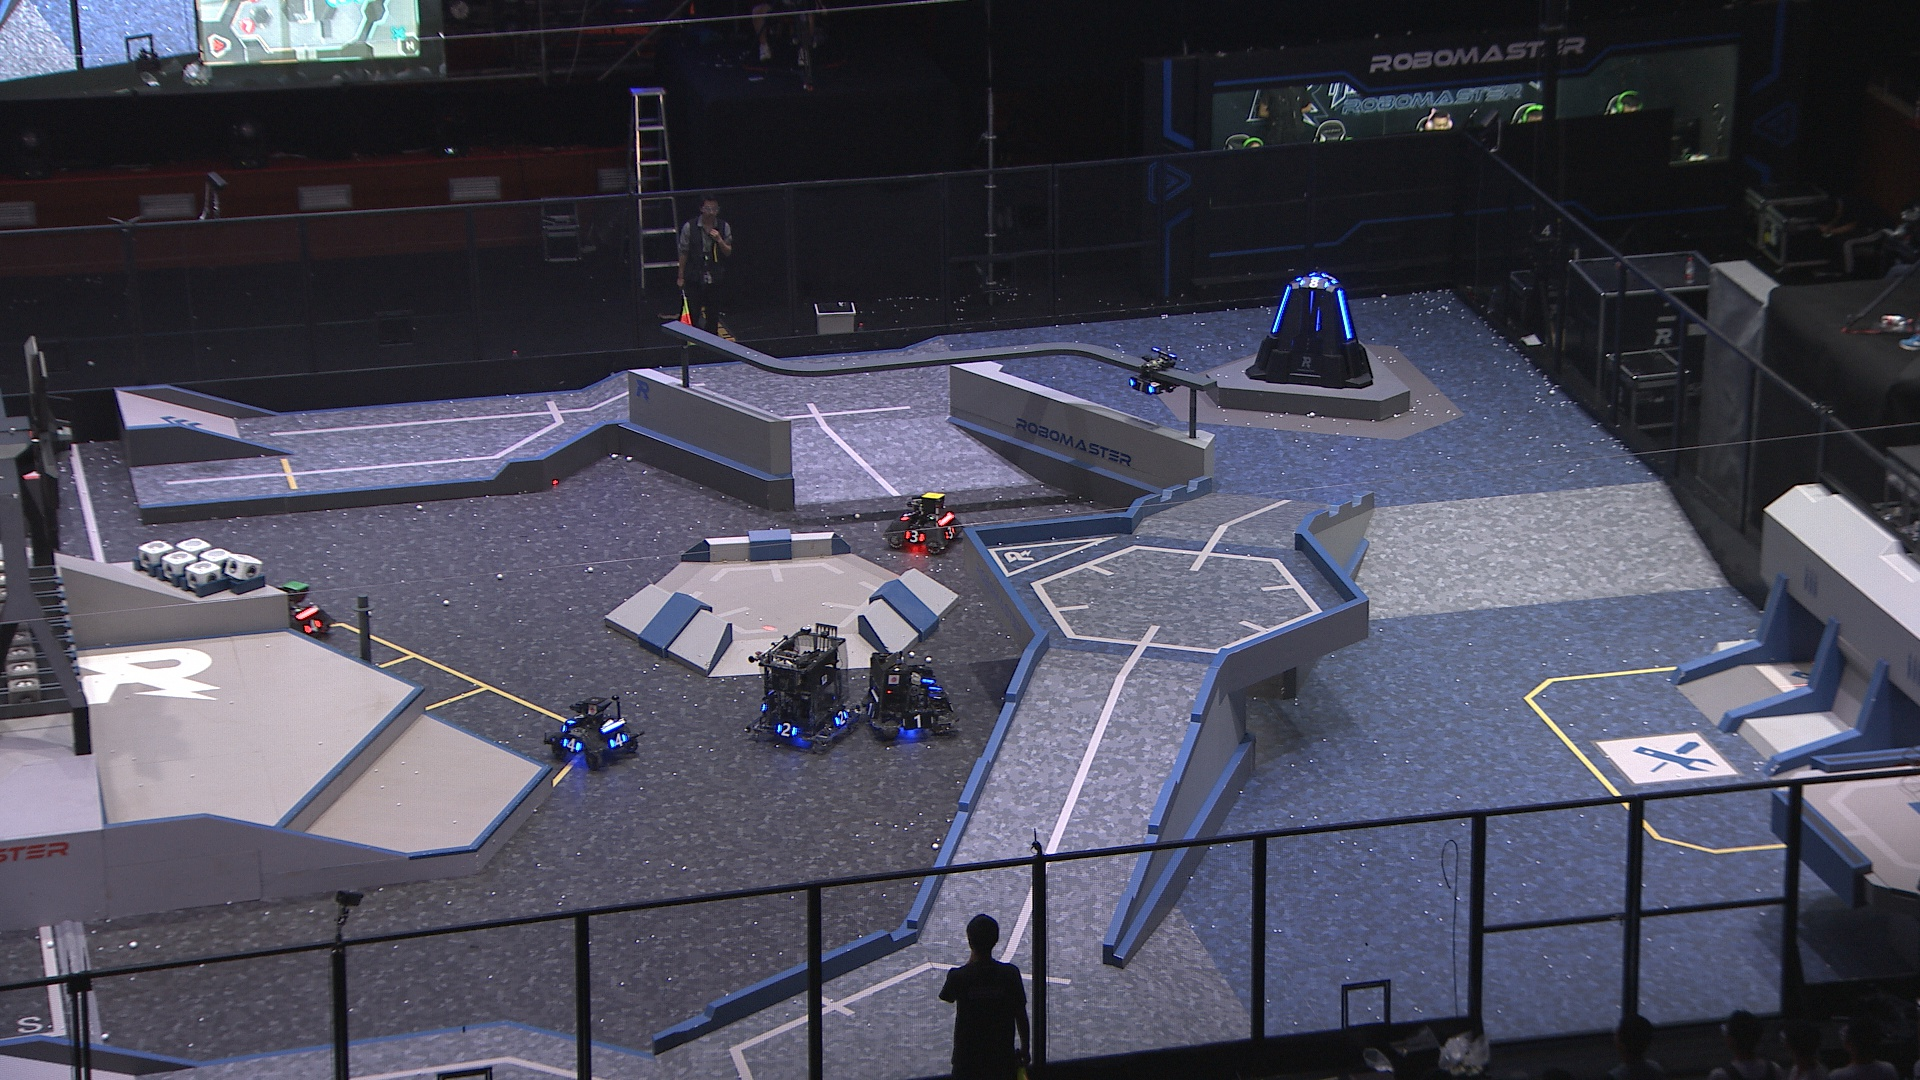armor: (1269, 284, 1294, 338), (1335, 286, 1357, 342), (901, 713, 938, 731), (608, 731, 632, 752), (1129, 378, 1156, 396), (1300, 276, 1332, 290), (562, 736, 584, 756), (778, 721, 800, 738), (905, 529, 927, 545), (305, 618, 324, 636), (864, 702, 880, 721), (833, 709, 851, 727), (899, 508, 916, 524), (944, 524, 957, 543), (1313, 306, 1323, 334)
base: (1244, 273, 1375, 390)
car: (745, 622, 865, 754), (861, 650, 959, 744), (542, 695, 647, 770), (244, 582, 334, 646), (885, 491, 965, 556)
watcher: (1129, 345, 1185, 400)
